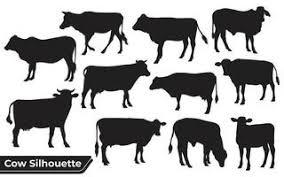cow: (6, 86, 79, 149), (133, 13, 208, 62), (81, 58, 150, 110), (95, 117, 164, 166), (5, 34, 76, 81), (168, 117, 228, 169), (215, 58, 279, 105), (150, 72, 220, 114), (60, 10, 128, 53), (212, 5, 271, 53), (230, 115, 276, 171)
